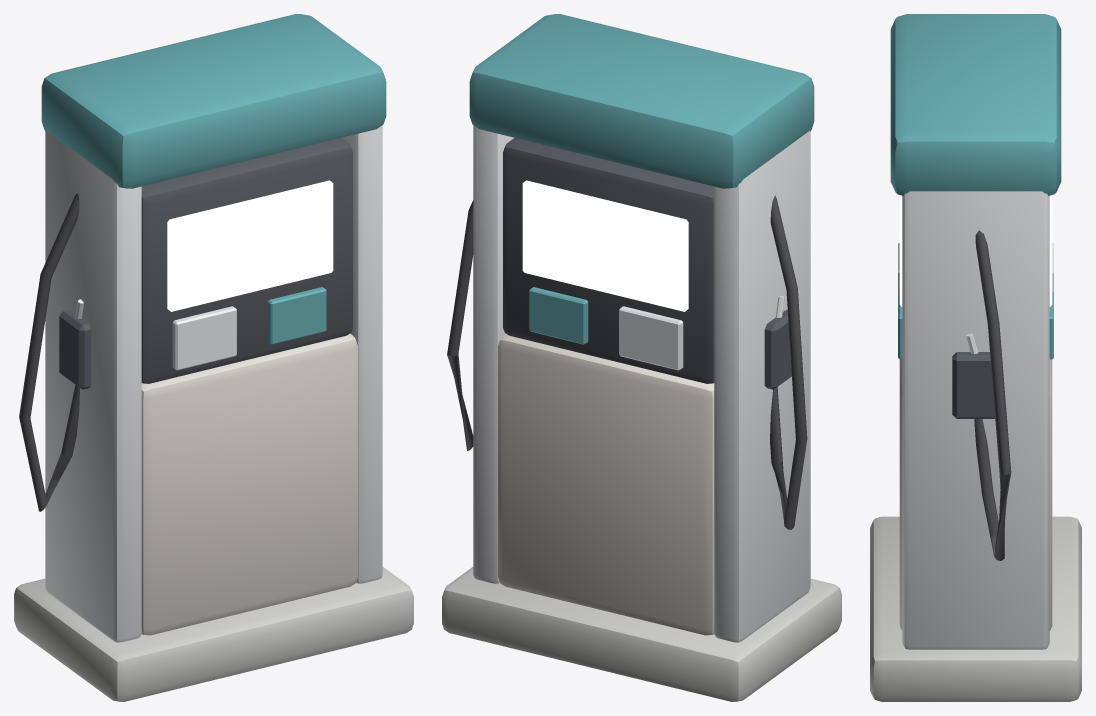
File: Gas_FuelPump.fbx
3 renders of one model, left to right at view 1: azimuth 30°, elevation 25°; view 2: azimuth 150°, elevation 25°; view 3: azimuth 270°, elevation 25°, orthographic.
Visible parts, largest first — view 1: Gas_FuelPump; view 2: Gas_FuelPump; view 3: Gas_FuelPump.
Part boxes in pixels (x1,y1,x2,y2): Gas_FuelPump: (14, 14, 413, 701); Gas_FuelPump: (442, 14, 841, 701); Gas_FuelPump: (870, 14, 1081, 701).
Size of the model in its own units: 1.4 by 2.1 by 0.72.
